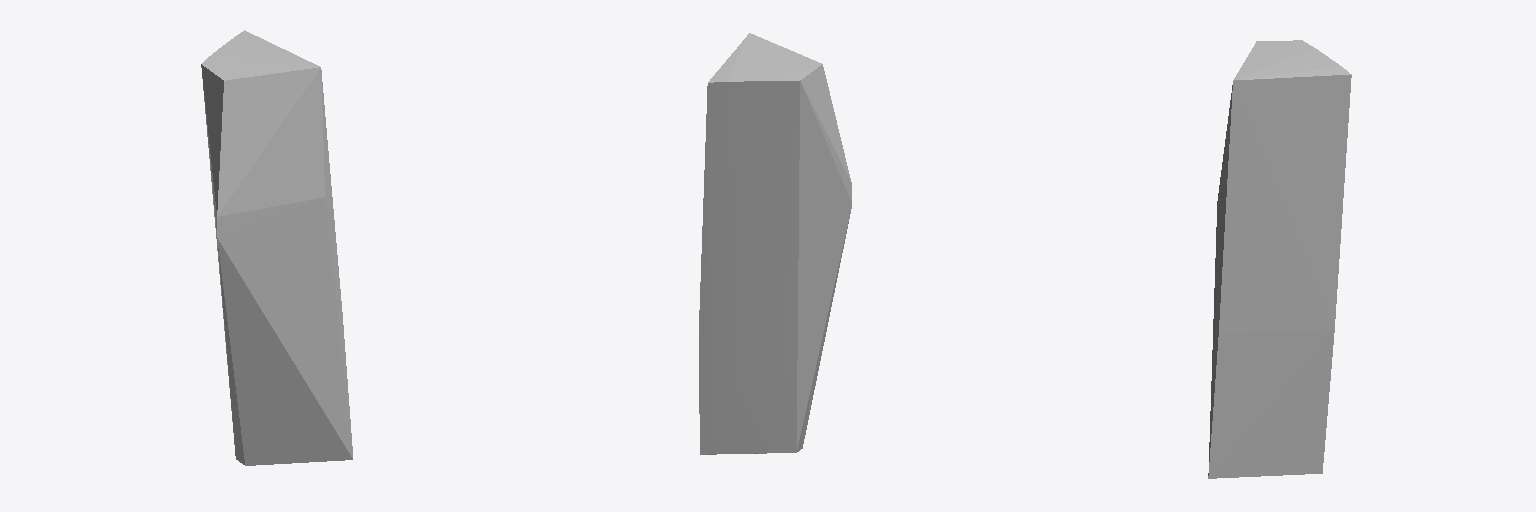
The model's file is trash_bin_collision_46.obj.
3 renders of one model, left to right at view 1: azimuth 30°, elevation 25°; view 2: azimuth 150°, elevation 25°; view 3: azimuth 270°, elevation 25°, orthographic.
Bounding box in the file's own units: 0.0223 × 0.0677 × 0.0225.